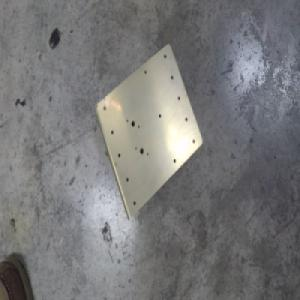MetalSheet: (92, 41, 203, 223)
